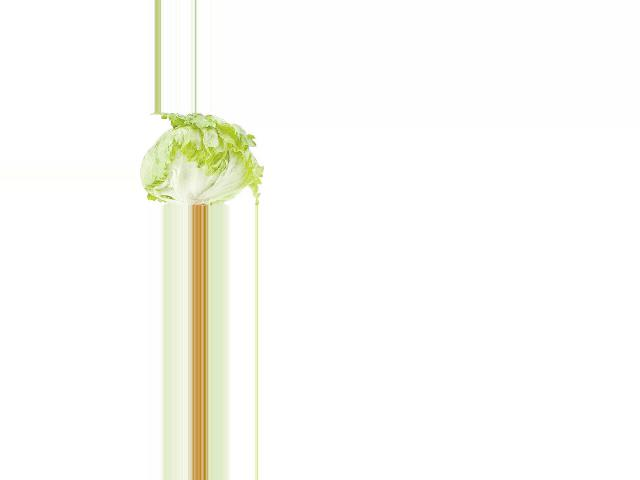lettuce: (136, 113, 268, 206)
